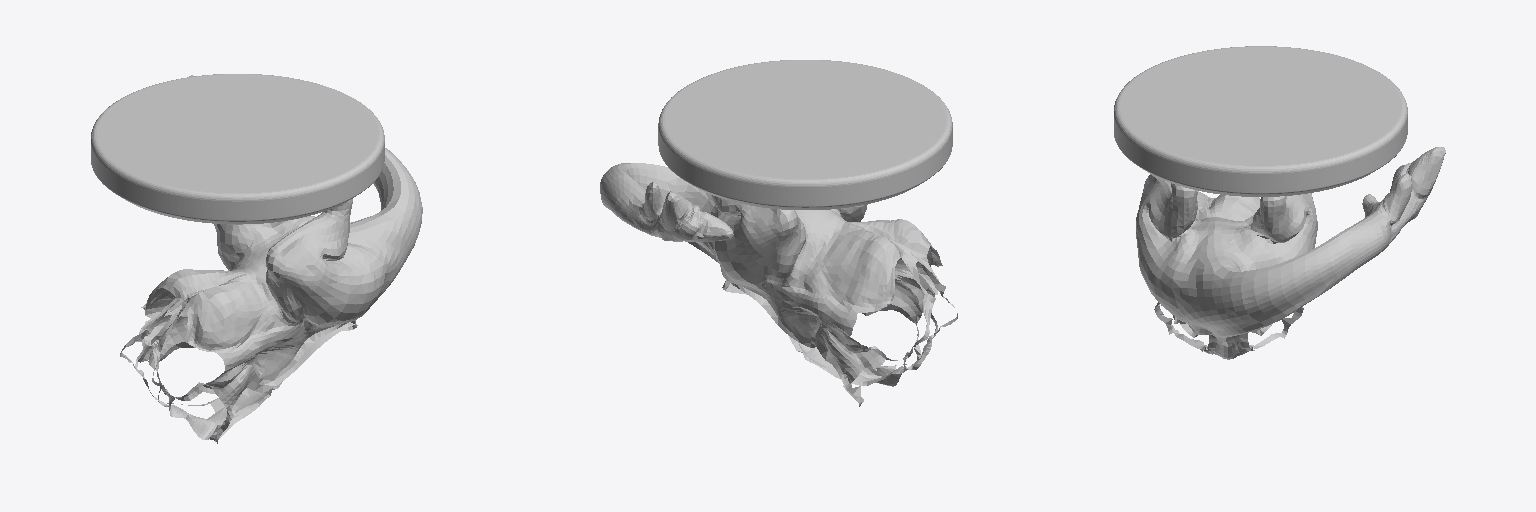
File: Dragonbase.obj
The picture shows the model from 3 angles: view 1: azimuth 30°, elevation 25°; view 2: azimuth 150°, elevation 25°; view 3: azimuth 270°, elevation 25°; orthographic projection.
Visible parts, largest first — view 1: 17174_Tiamat_new; view 2: 17174_Tiamat_new; view 3: 17174_Tiamat_new.
Part boxes in pixels (x1,y1,x2,y2): 17174_Tiamat_new: (91,74,422,443); 17174_Tiamat_new: (600,60,957,406); 17174_Tiamat_new: (1114,46,1445,359).
Bounding box in the file's own units: 4.87 × 4.08 × 4.52.